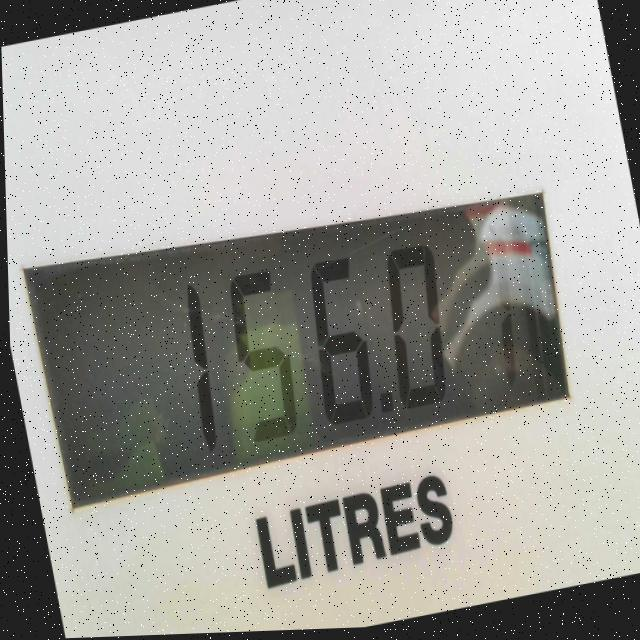.: (367, 379, 401, 437)
0: (366, 237, 463, 421)
1: (154, 267, 237, 474), (456, 209, 537, 407)
5: (212, 253, 309, 455)
6: (280, 240, 390, 438)
